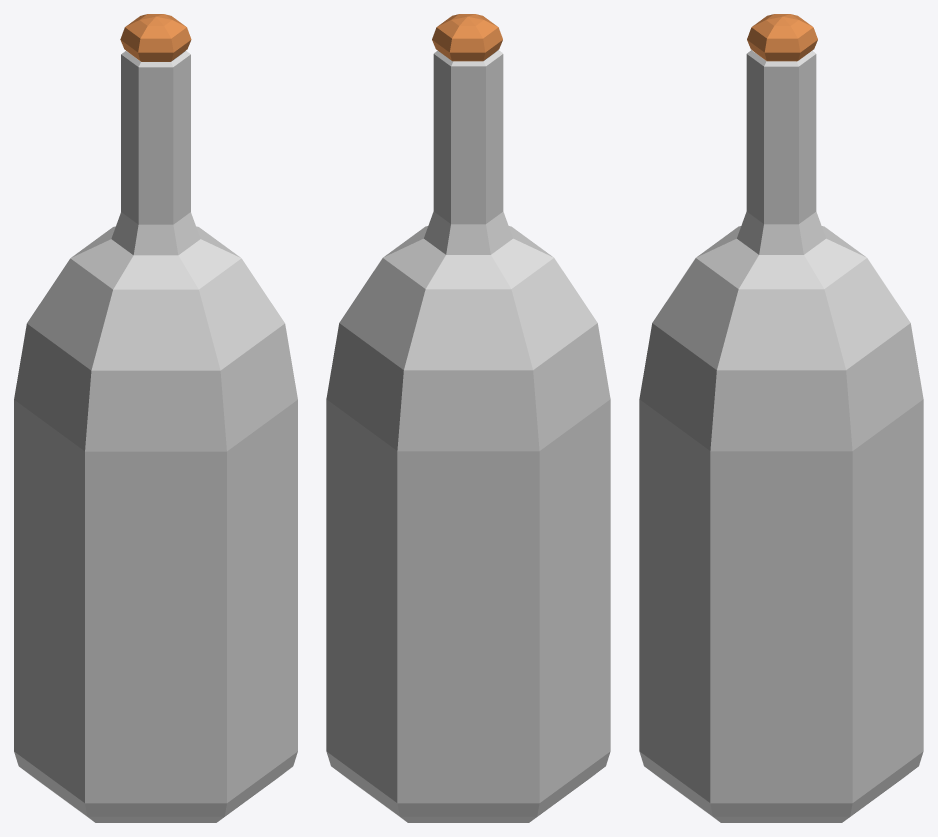
Rendered from Bottle.fbx.
3 renders of one model, left to right at view 1: azimuth 30°, elevation 25°; view 2: azimuth 150°, elevation 25°; view 3: azimuth 270°, elevation 25°, orthographic.
Parts seen in each view (by area): view 1: Bottle, BottleCork; view 2: Bottle, BottleCork; view 3: Bottle, BottleCork.
Part boxes in pixels (x1,y1,x2,y2): Bottle: [14, 50, 297, 822]; BottleCork: [120, 14, 191, 61]; Bottle: [326, 50, 610, 822]; BottleCork: [432, 14, 502, 61]; Bottle: [639, 50, 923, 822]; BottleCork: [747, 14, 817, 61].
Size of the model in its own units: 5.45 by 18.63 by 6.3.
